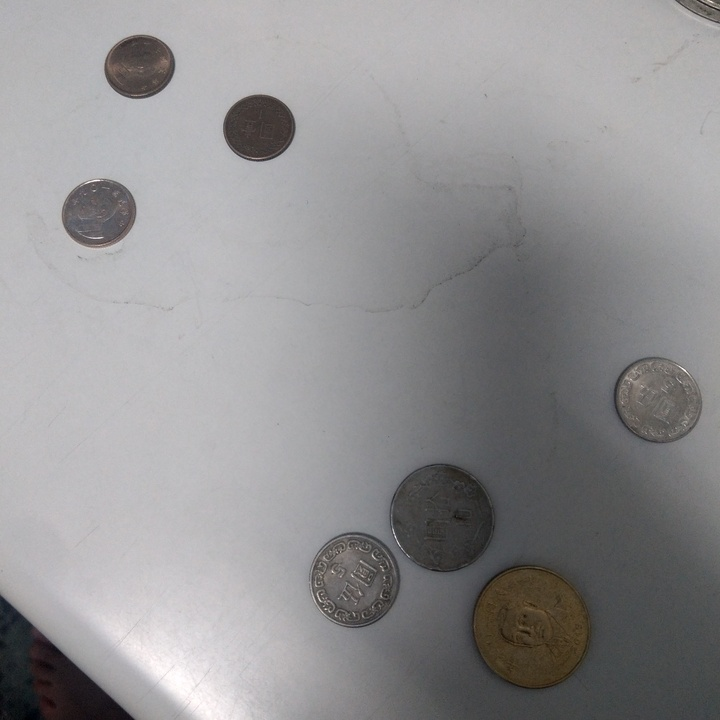1 dollar: (58, 178, 137, 251), (222, 94, 298, 162), (101, 34, 178, 100)
10 dollar: (387, 463, 498, 575)
5 dollar: (308, 531, 401, 628), (610, 354, 705, 448)
50 dollar: (472, 564, 593, 692)
